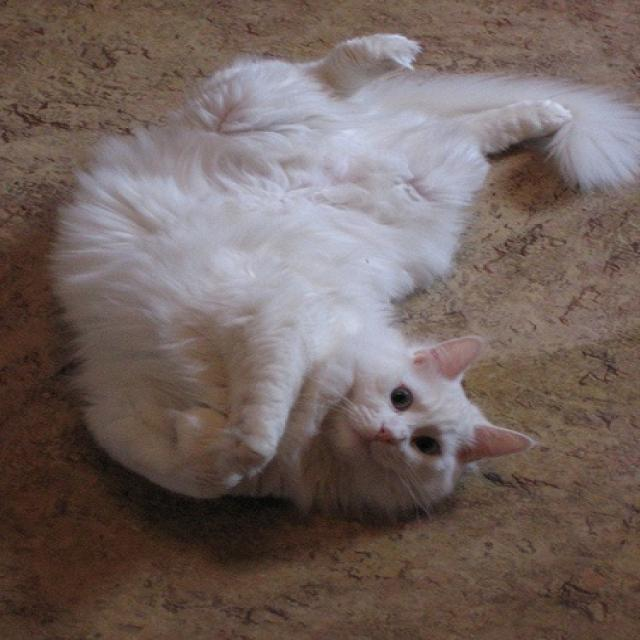cat: (56, 31, 574, 516)
